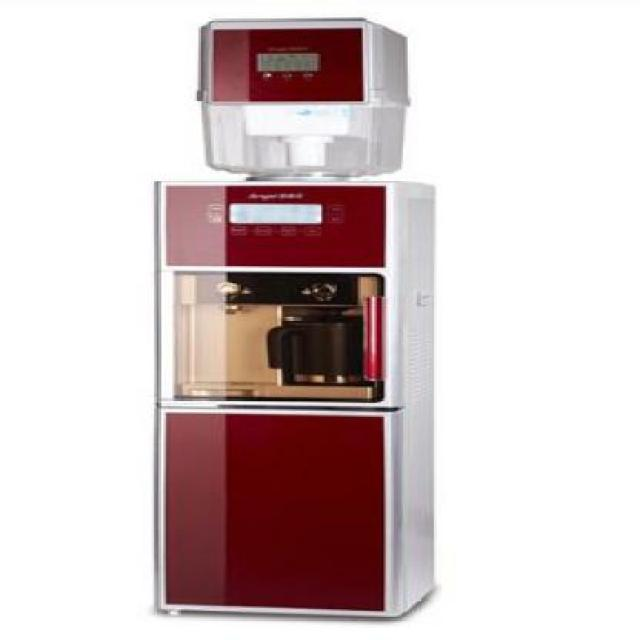cooler: (146, 12, 443, 624)
